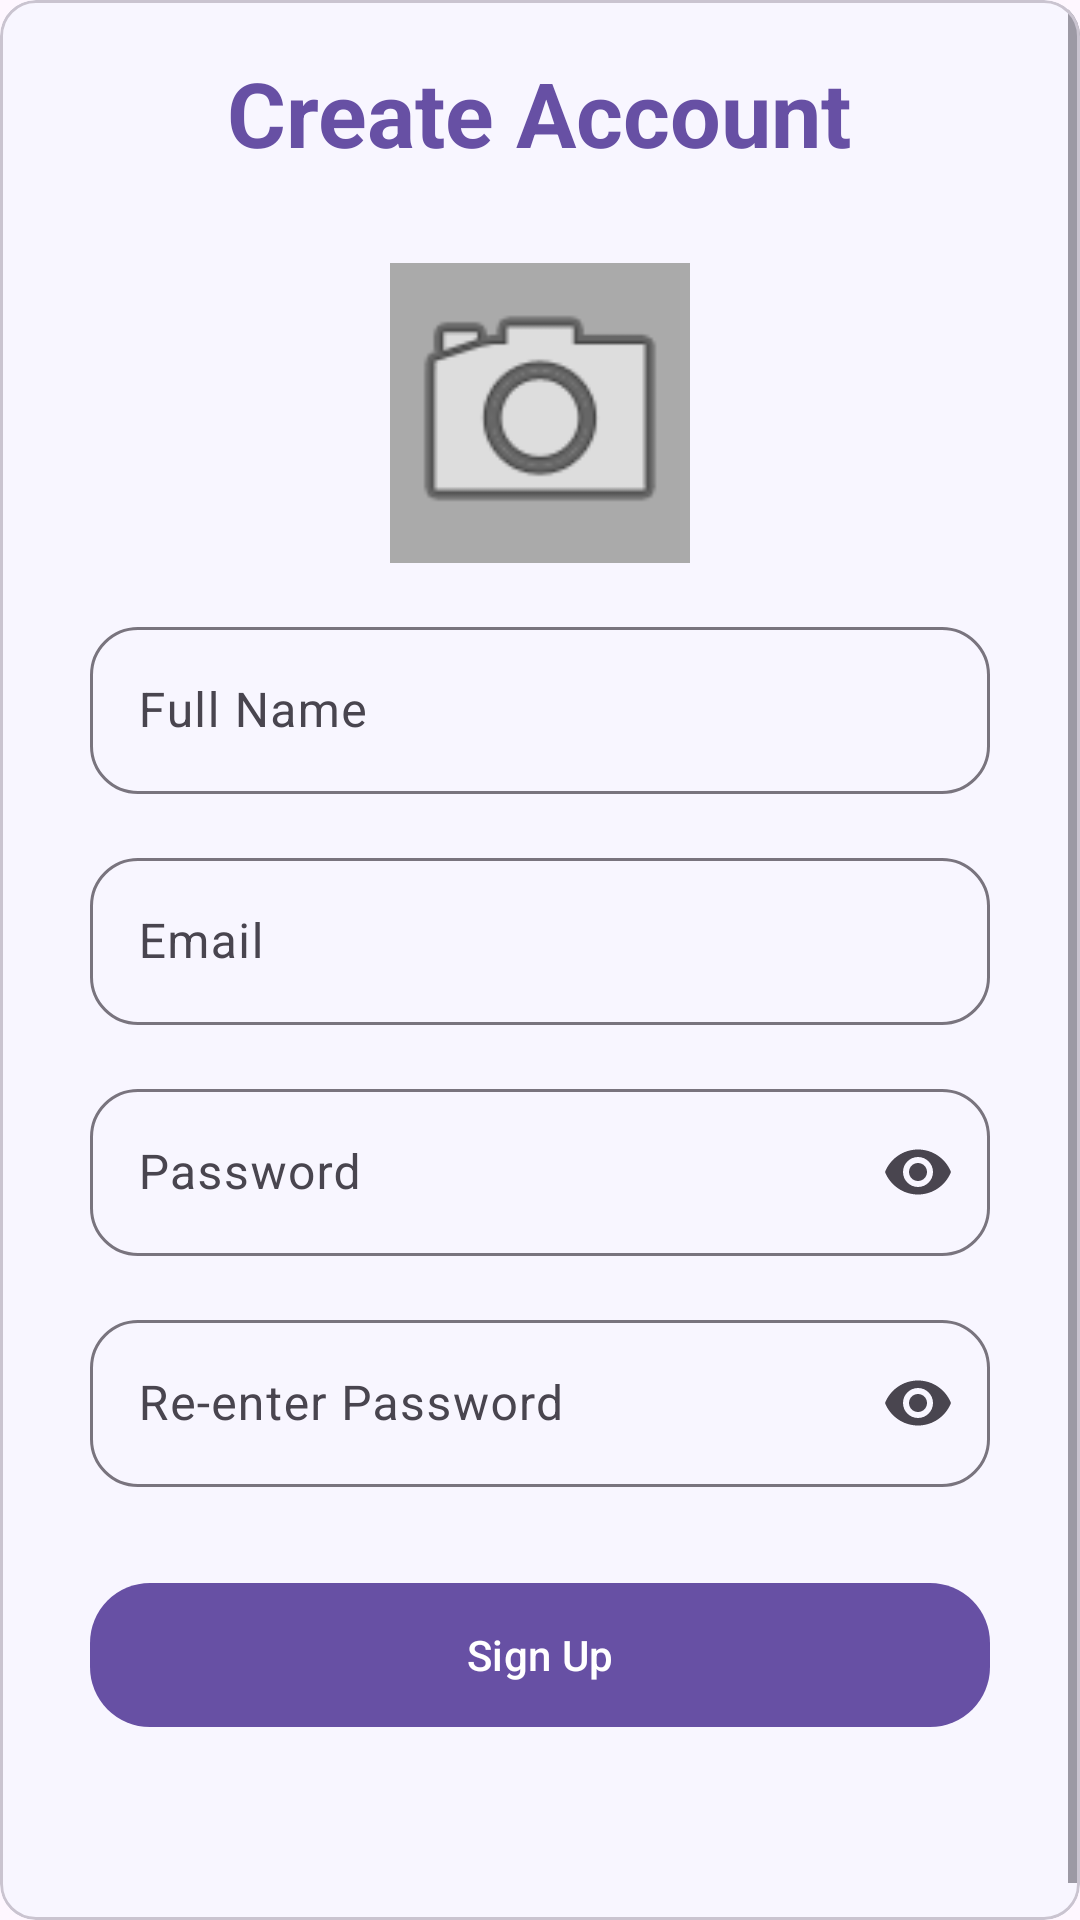

Where icons sit on this 1080×1920 app screen, as BBox(x1, y1, x2, y2):
camera: BBox(390, 263, 690, 563)
